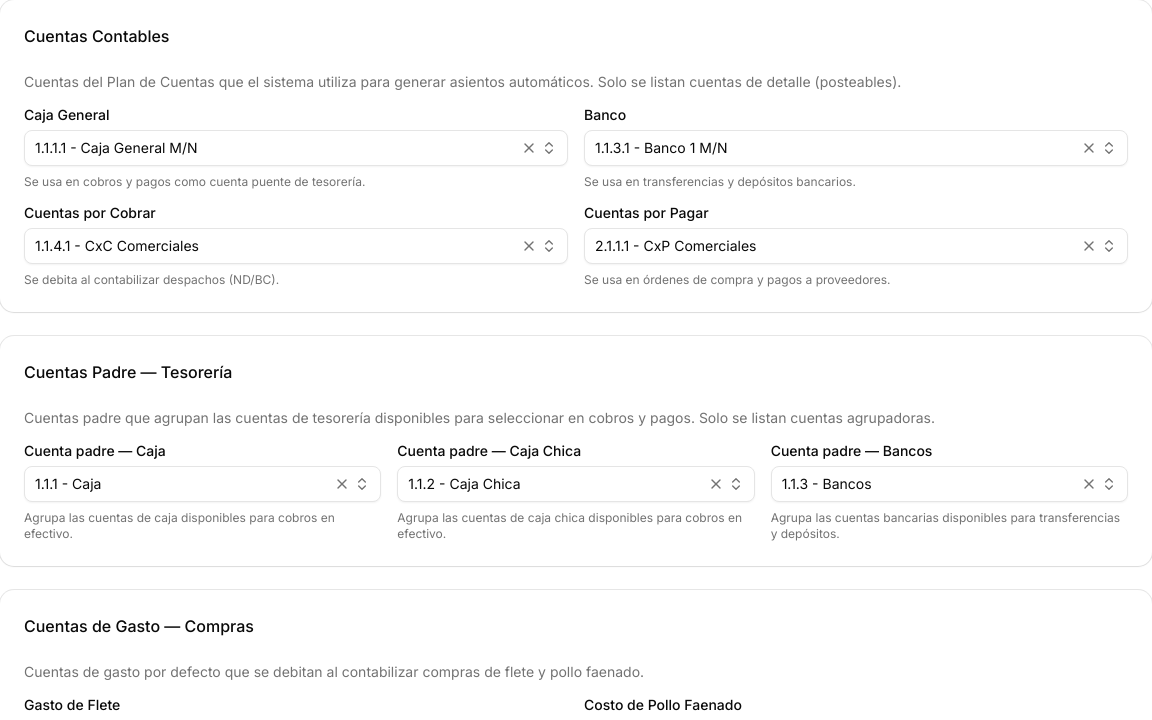
Test: OrgSettingsForm — account combobox-with-search › cash-parent popover lists only parent accounts (isDetail:false) — detail excluded
Click the dropdown named "Cuenta padre — Caja": (68, 484) top-left (24, 466), bottom-right (381, 502)
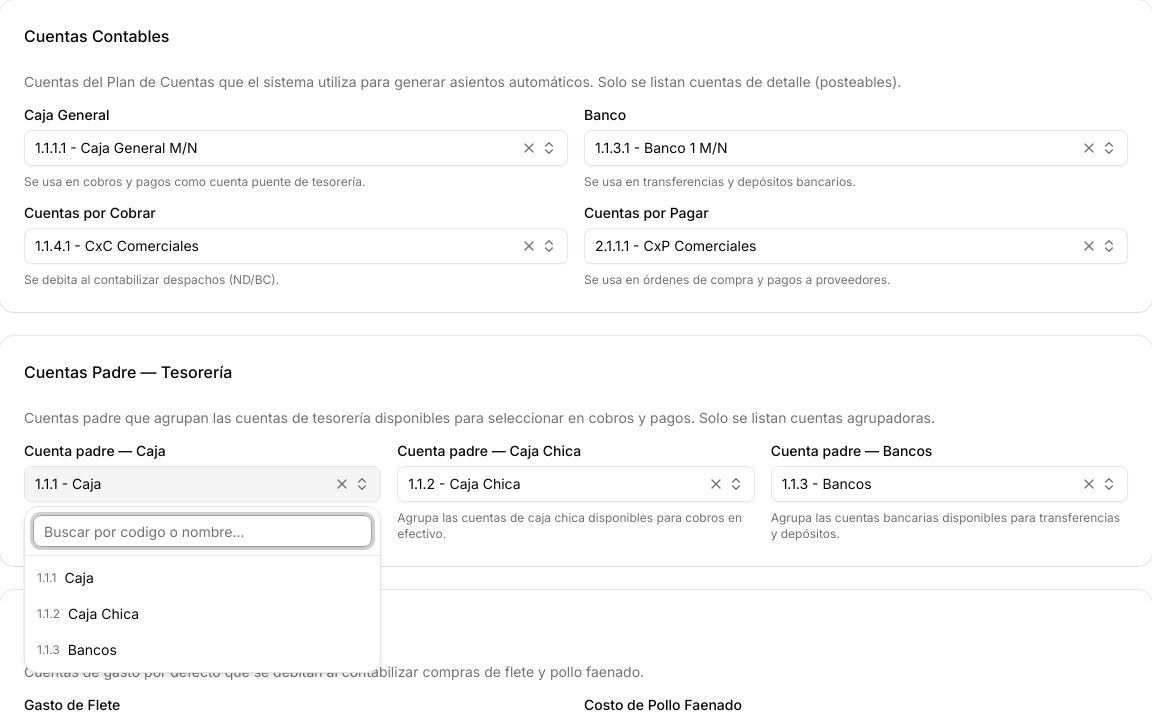
Expected: the text "Caja" is shown, top-left (64, 568), bottom-right (94, 588)
